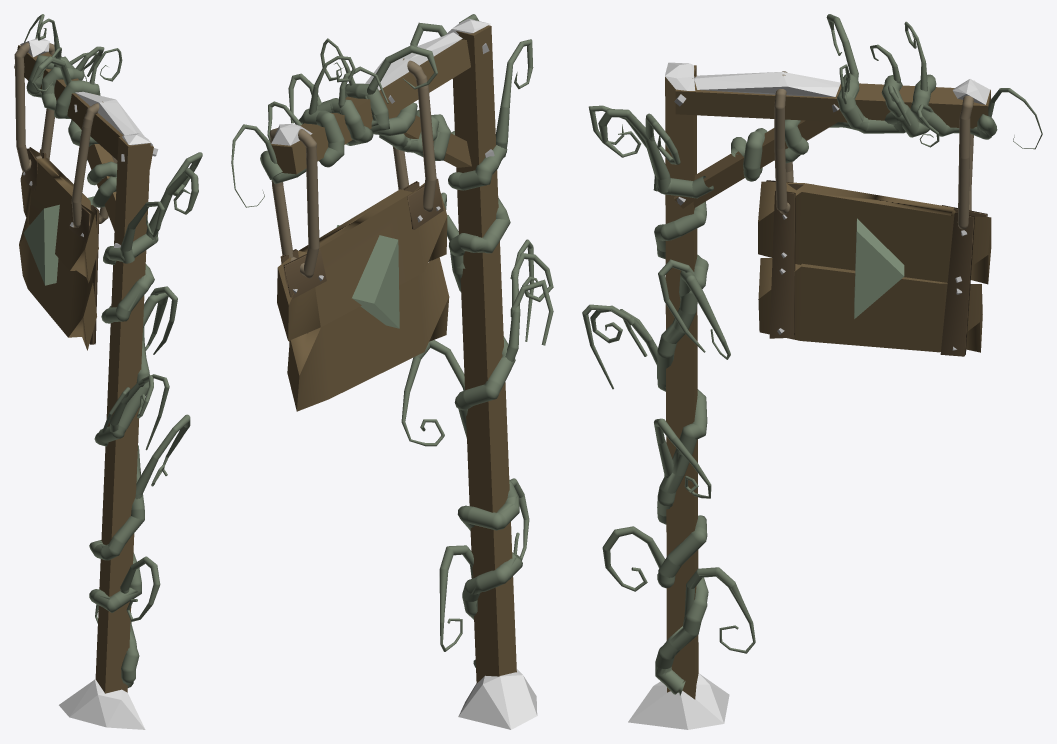
The model's file is sign.fbx.
3 views of the same model, side by side, from view 1: azimuth 30°, elevation 25°; view 2: azimuth 150°, elevation 25°; view 3: azimuth 270°, elevation 25° (orthographic). The views are drawn at different scales.
Parts seen in each view (by area): view 1: Куб; view 2: Куб; view 3: Куб.
Part boxes in pixels (x1,y1,x2,y2): Куб: [14, 14, 202, 729]; Куб: [231, 14, 553, 729]; Куб: [582, 14, 1042, 729].
Bounding box in the file's own units: 1658 × 7539 × 4430.
